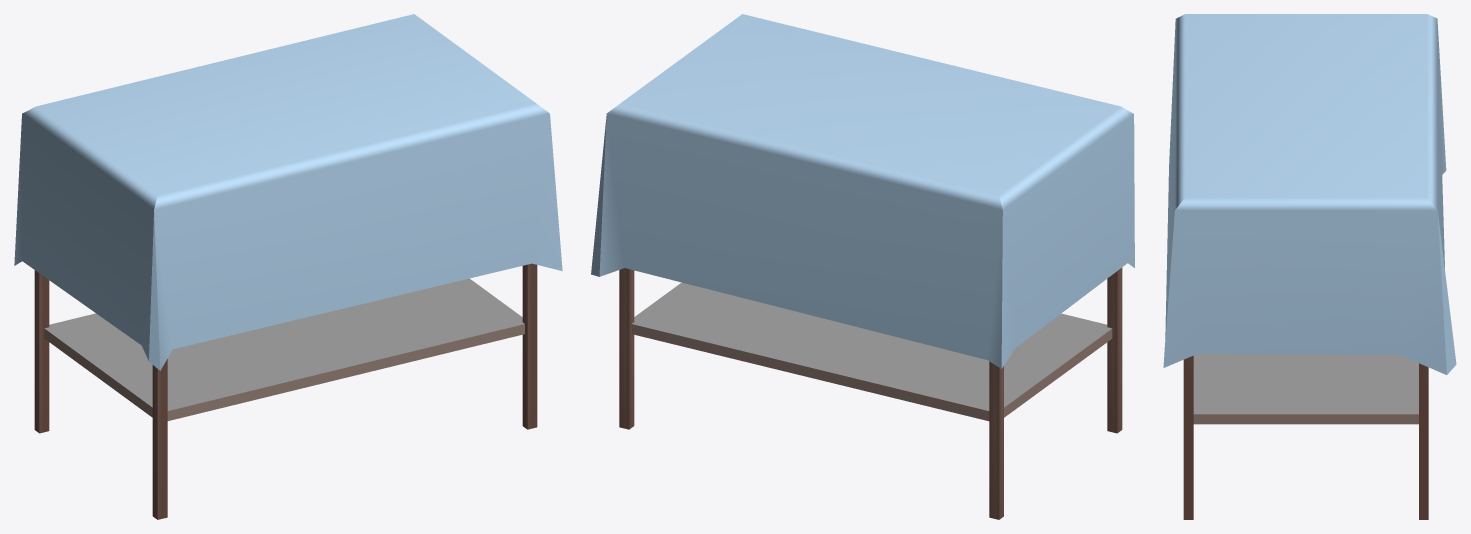
The model's file is back_table.glb.
The picture shows the model from 3 angles, left to right: view 1: azimuth 30°, elevation 25°; view 2: azimuth 150°, elevation 25°; view 3: azimuth 270°, elevation 25°; orthographic projection.
Visible parts, largest first — view 1: backtable; view 2: backtable; view 3: backtable.
Part boxes in pixels (box(x1,y1,x2,y2)): backtable: box(14, 14, 562, 519); backtable: box(591, 14, 1134, 519); backtable: box(1163, 14, 1456, 519).
Bounding box in the file's own units: 0.9948 × 0.745 × 0.6144.
Materials: 1 (1 with a texture image).
